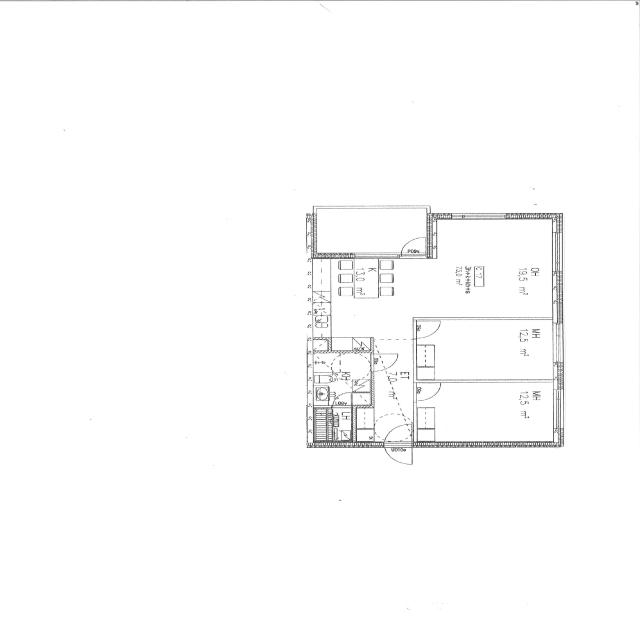door: (382, 424, 412, 464), (397, 234, 429, 258), (411, 318, 442, 341), (412, 382, 442, 402), (370, 352, 397, 372), (373, 413, 395, 431)
window: (548, 317, 568, 366), (547, 229, 567, 273), (549, 384, 567, 432)
zone: (423, 218, 558, 319), (414, 382, 560, 445), (414, 319, 558, 382), (310, 260, 422, 338), (312, 208, 425, 258), (309, 350, 371, 406), (312, 406, 353, 444)
